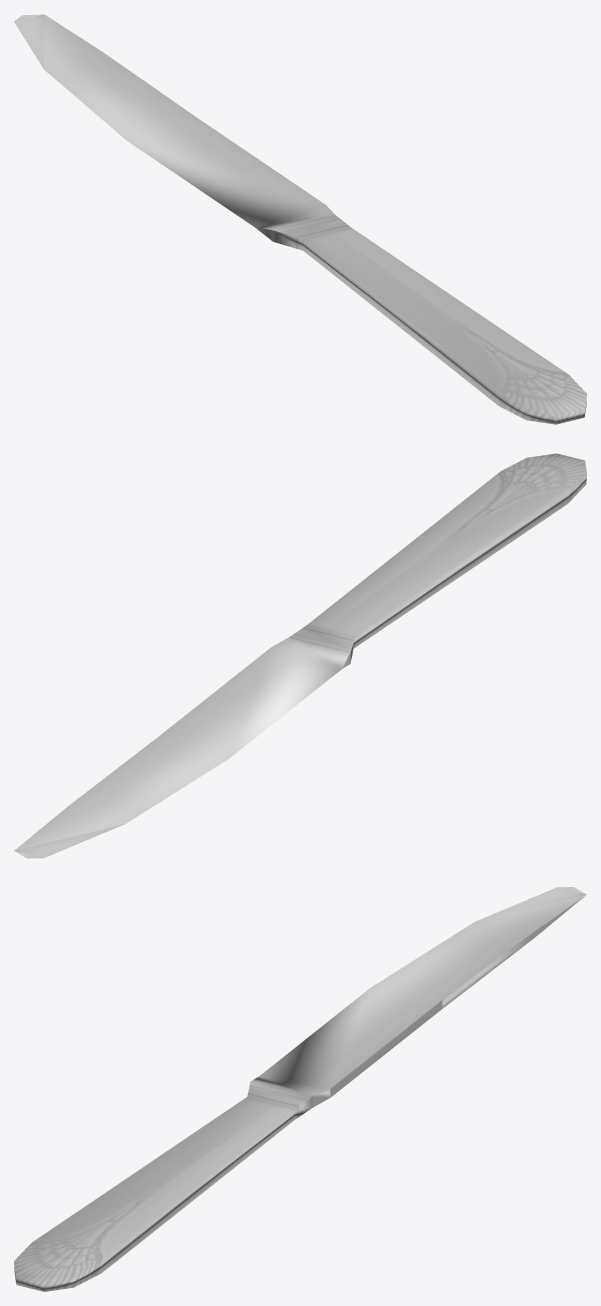
Rendered from KnifeBig.fbx.
The picture shows the model from 3 angles, top to bottom: view 1: azimuth 30°, elevation 25°; view 2: azimuth 150°, elevation 25°; view 3: azimuth 330°, elevation 25°; orthographic projection.
Visible parts, largest first — view 1: Default_Layer; view 2: Default_Layer; view 3: Default_Layer.
Part boxes in pixels (x1,y1,x2,y2): Default_Layer: (14, 14, 586, 424); Default_Layer: (14, 453, 586, 858); Default_Layer: (14, 887, 586, 1291).
Size of the model in its own units: 6.03 by 1.04 by 68.23.
